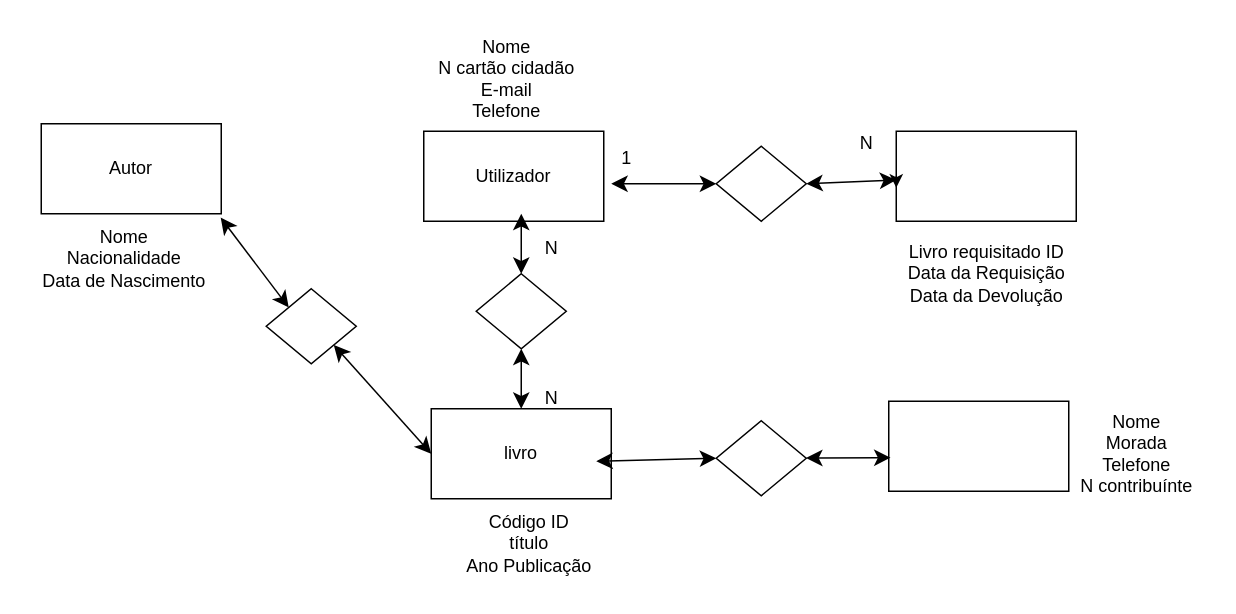
Image size: 1236x614. Some labels were removed from this diagram. The centre of each missing label's shape, as x and y in pixels:
Editora: point (978, 445)
Requisição: point (985, 175)
